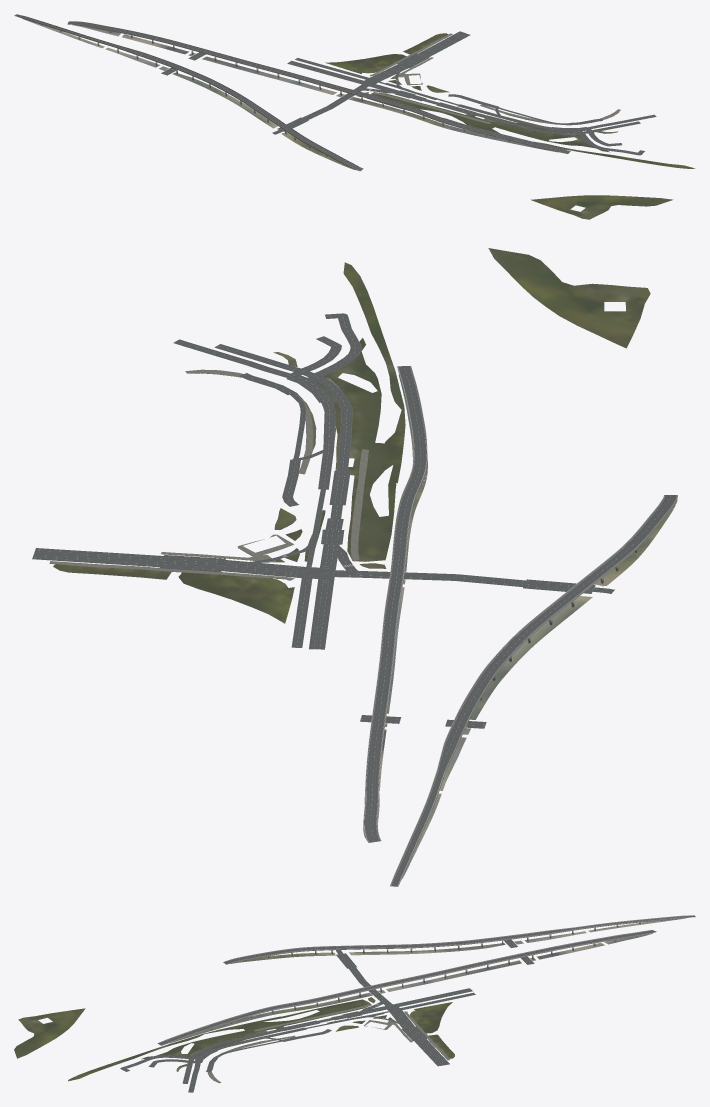
3 views of the same model, one above another, from view 1: azimuth 30°, elevation 25°; view 2: azimuth 150°, elevation 25°; view 3: azimuth 270°, elevation 25° (orthographic). The views are drawn at different scales.
Parts seen in each view (by area): view 1: Planted road margins, Marina Centre asphalt, Flyover parapets, box girders and piers (flyovers), Marina Centre asphalt (flyovers), rochor undercroft, sheares undercroft, Paved approaches and stone kerbs; view 2: Planted road margins, Marina Centre asphalt, Marina Centre asphalt (flyovers), Paved approaches and stone kerbs, Flyover parapets, box girders and piers (flyovers), sheares undercroft, Marina Centre road paint (flyovers), rochor undercroft; view 3: Planted road margins, Marina Centre asphalt, Flyover parapets, box girders and piers (flyovers), Marina Centre asphalt (flyovers), rochor undercroft, sheares undercroft, Paved approaches and stone kerbs.
Part boxes in pixels (x1,y1,x2,y2): Planted road margins: [325, 33, 695, 219]; Marina Centre asphalt: [277, 31, 656, 155]; Flyover parapets, box girders and piers (flyovers): [14, 14, 569, 171]; Marina Centre asphalt (flyovers): [15, 14, 570, 171]; rochor undercroft: [72, 24, 558, 152]; sheares undercroft: [22, 18, 354, 169]; Paved approaches and stone kerbs: [370, 33, 620, 150]; Planted road margins: [53, 248, 650, 623]; Marina Centre asphalt: [32, 313, 595, 649]; Marina Centre asphalt (flyovers): [360, 366, 677, 886]; Paved approaches and stone kerbs: [49, 341, 368, 580]; Flyover parapets, box girders and piers (flyovers): [363, 366, 677, 886]; sheares undercroft: [402, 500, 677, 878]; Marina Centre road paint (flyovers): [361, 366, 676, 885]; rochor undercroft: [363, 375, 427, 838]; Planted road margins: [14, 997, 454, 1081]; Marina Centre asphalt: [120, 953, 475, 1092]; Flyover parapets, box girders and piers (flyovers): [159, 915, 694, 1045]; Marina Centre asphalt (flyovers): [158, 915, 695, 1045]; rochor undercroft: [169, 933, 652, 1043]; sheares undercroft: [230, 918, 685, 963]; Paved approaches and stone kerbs: [154, 1004, 450, 1083].
Bounding box in the file's own units: 491 × 9.07 × 798.
7 materials, 5 textured.
